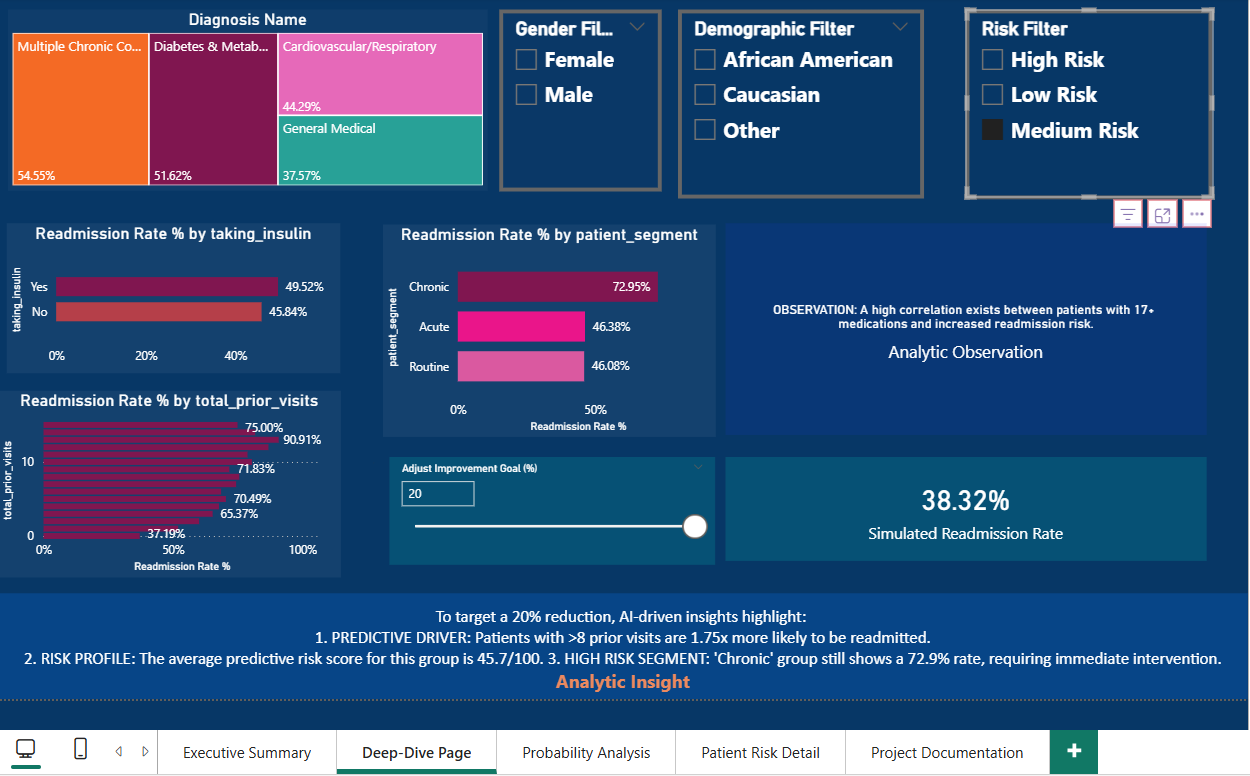

The dashboard page shown, as its layout file describes it:
{"tool":"powerbi","page":{"name":"Deep-Dive Page","canvas":[1280,720],"ordinal":1},"visuals":[{"type":"clusteredBarChart","fields":{"Category":["cleaned_hospital_data.taking_insulin"],"Y":["cleaned_hospital_data.Readmission Rate %"]},"box":[9.2,232.4,341.6,153.9],"z":0},{"type":"treemap","title":"Diagnosis Name","fields":{"Values":["cleaned_hospital_data.Readmission Rate %"],"Group":["cleaned_hospital_data.diagnosis_name"]},"box":[10,12.4,491.4,185.3],"z":1000},{"type":"slicer","fields":{"Values":["cleaned_hospital_data.gender"]},"box":[514,12.3,166.2,186.2],"z":2000},{"type":"slicer","fields":{"Values":["cleaned_hospital_data.race"]},"box":[697.1,12.3,252.4,193.9],"z":3000},{"type":"clusteredBarChart","fields":{"Y":["cleaned_hospital_data.Readmission Rate %"],"Category":["cleaned_hospital_data.patient_segment"]},"box":[394.3,232.6,340.8,217.7],"z":4000},{"type":"slicer","fields":{"Values":["cleaned_hospital_data.risk_category"]},"box":[991.4,12.4,252.5,194.1],"z":5000},{"type":"slicer","fields":{"Values":["Target Readmission Reduction.Target Readmission Reduction"]},"box":[400.1,470.9,333.9,110.8],"z":6000},{"type":"card","fields":{"Values":["Target Readmission Reduction.Projected Readmission Rate"]},"box":[744.8,470.9,492.4,106.2],"z":7000},{"type":"card","fields":{"Values":["Target Readmission Reduction.Actionable Insight"]},"box":[0,610.9,1280.3,109.3],"z":8000},{"type":"card","fields":{"Values":["Target Readmission Reduction.Medication vs Lab Impact"]},"box":[744.8,232.4,492.4,217],"z":10000},{"type":"barChart","fields":{"Category":["cleaned_hospital_data.total_prior_visits"],"Y":["cleaned_hospital_data.Readmission Rate %","select"]},"box":[0,403.2,350.9,190.8],"z":10001},{"type":"slicer","fields":{"Values":["cleaned_hospital_data.total_prior_visits"]},"box":[377,470.9,16.9,12.3],"z":10002}]}

Visuals, with their boxes on the page's 1280x720 design canvas (x1, y1, x2, y2). These are canvas units, not pixel positions in the 1250x776 screenshot, which may show the page scaled, cropped or inside an application window:
clusteredBarChart - cleaned_hospital_data.taking_insulin x cleaned_hospital_data.Readmission Rate %: {"left": 9, "top": 232, "right": 351, "bottom": 386}
"Diagnosis Name" treemap: {"left": 10, "top": 12, "right": 501, "bottom": 198}
slicer - cleaned_hospital_data.gender: {"left": 514, "top": 12, "right": 680, "bottom": 198}
slicer - cleaned_hospital_data.race: {"left": 697, "top": 12, "right": 950, "bottom": 206}
clusteredBarChart - cleaned_hospital_data.Readmission Rate % x cleaned_hospital_data.patient_segment: {"left": 394, "top": 233, "right": 735, "bottom": 450}
slicer - cleaned_hospital_data.risk_category: {"left": 991, "top": 12, "right": 1244, "bottom": 206}
slicer - Target Readmission Reduction.Target Readmission Reduction: {"left": 400, "top": 471, "right": 734, "bottom": 582}
card - Target Readmission Reduction.Projected Readmission Rate: {"left": 745, "top": 471, "right": 1237, "bottom": 577}
card - Target Readmission Reduction.Actionable Insight: {"left": 0, "top": 611, "right": 1280, "bottom": 720}
card - Target Readmission Reduction.Medication vs Lab Impact: {"left": 745, "top": 232, "right": 1237, "bottom": 449}
barChart - cleaned_hospital_data.total_prior_visits x cleaned_hospital_data.Readmission Rate %: {"left": 0, "top": 403, "right": 351, "bottom": 594}
slicer - cleaned_hospital_data.total_prior_visits: {"left": 377, "top": 471, "right": 394, "bottom": 483}
